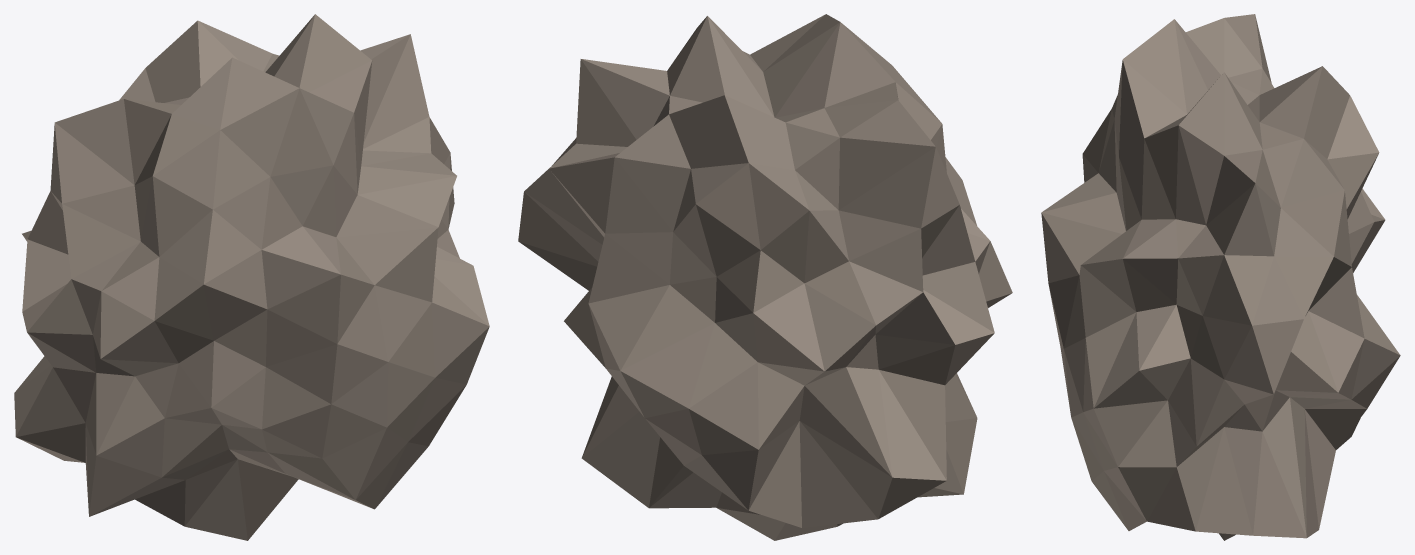
File: Rock3.glb
3 renders of one model, left to right at view 1: azimuth 30°, elevation 25°; view 2: azimuth 150°, elevation 25°; view 3: azimuth 270°, elevation 25°, orthographic.
Visible parts, largest first — view 1: world; view 2: world; view 3: world.
Boxes of the visible parts, box(x1,y1,x2,y2) form: world: box(14, 14, 489, 540); world: box(518, 14, 1012, 540); world: box(1041, 14, 1400, 540).
Bounding box in the file's own units: 3.6 × 3.88 × 2.52.
